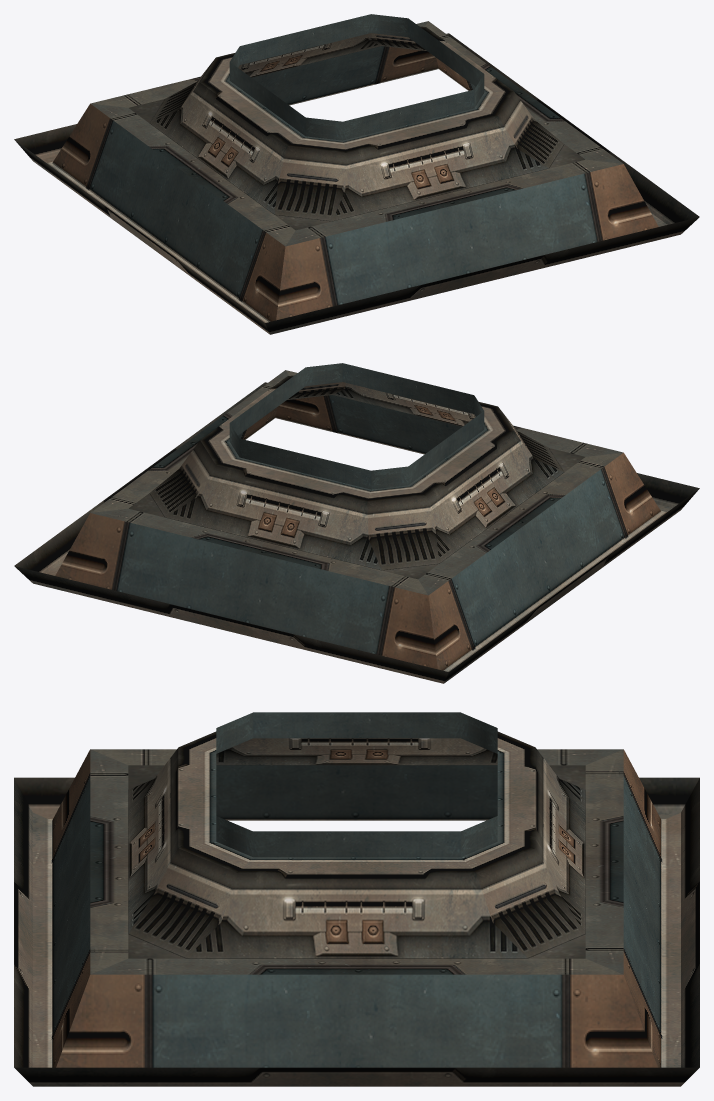
Rendered from mprw_ceiling_window.FBX.
3 views of the same model, one above another, from view 1: azimuth 30°, elevation 25°; view 2: azimuth 150°, elevation 25°; view 3: azimuth 270°, elevation 25° (orthographic). The views are drawn at different scales.
Visible parts, largest first — view 1: mprw_ceiling_window; view 2: mprw_ceiling_window; view 3: mprw_ceiling_window.
Boxes of the visible parts, x1=… form: mprw_ceiling_window: x1=14, y1=14, x2=699, y2=334; mprw_ceiling_window: x1=14, y1=363, x2=699, y2=683; mprw_ceiling_window: x1=14, y1=712, x2=699, y2=1086.
Bounding box in the file's own units: 2100 × 600 × 2100.
1 material, 1 textured.
